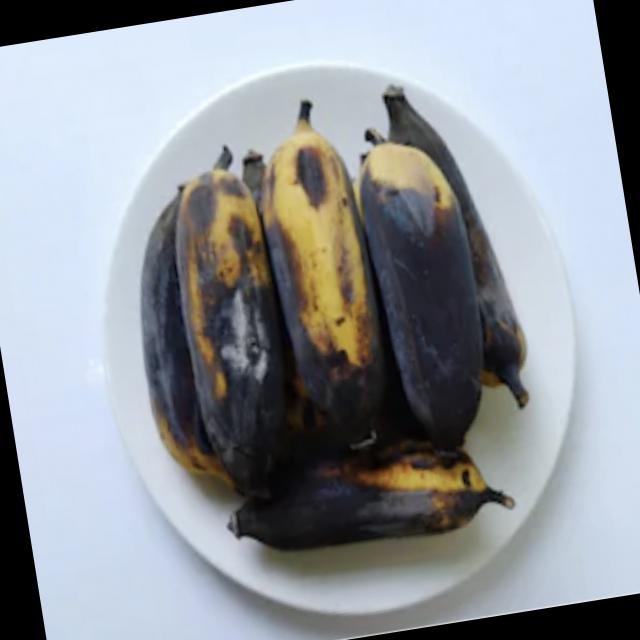rotten-banana: (216, 406, 526, 588), (356, 117, 508, 460), (254, 112, 402, 463), (160, 140, 304, 494), (121, 199, 217, 510)
